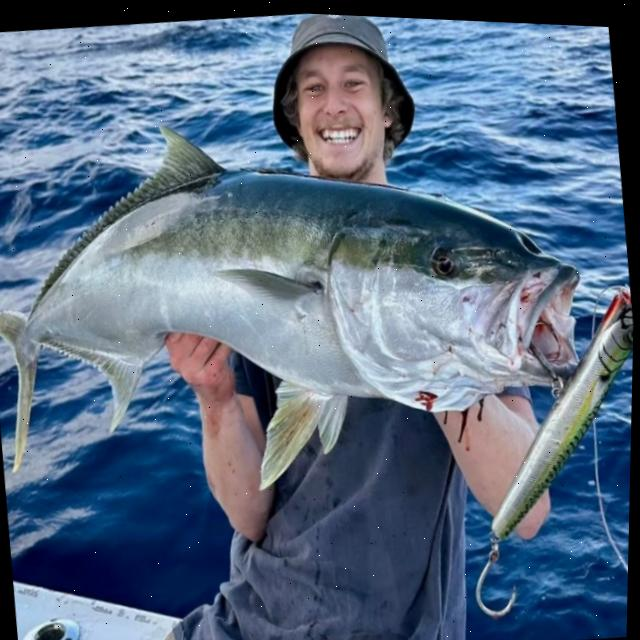Kingfish: (0, 71, 603, 528)
